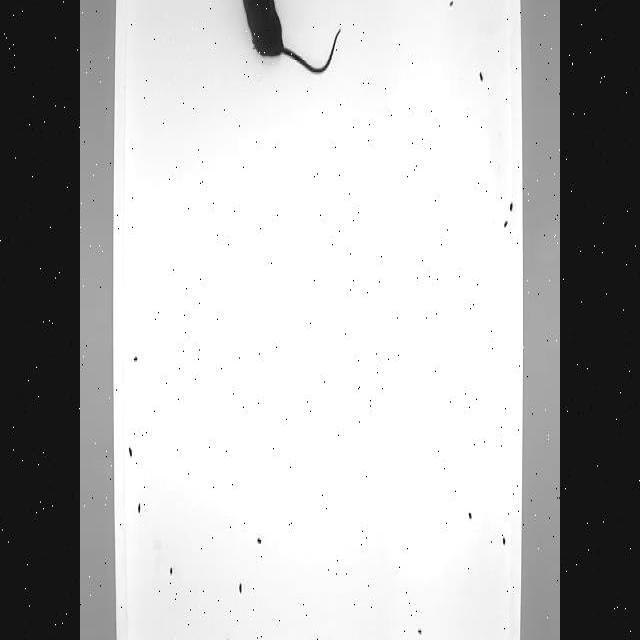rat: (241, 0, 341, 73)
